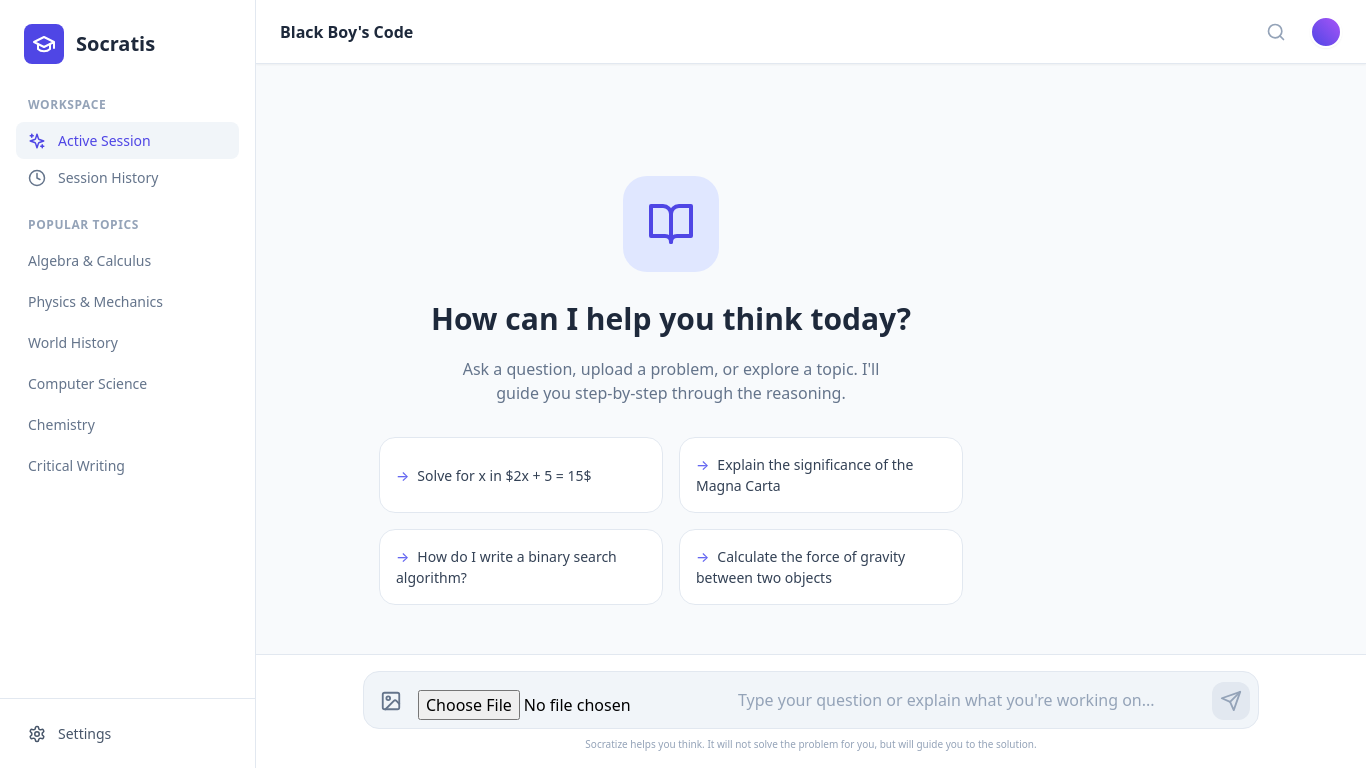
Test: App › Message Flow and State Changes › shows loading indicator while waiting for response
The width and height of the screenshot is (1366, 768).
Click the button "→ Solve for x in $2x + 5 = 15$".
click(521, 475)  # box [379,437,663,513]
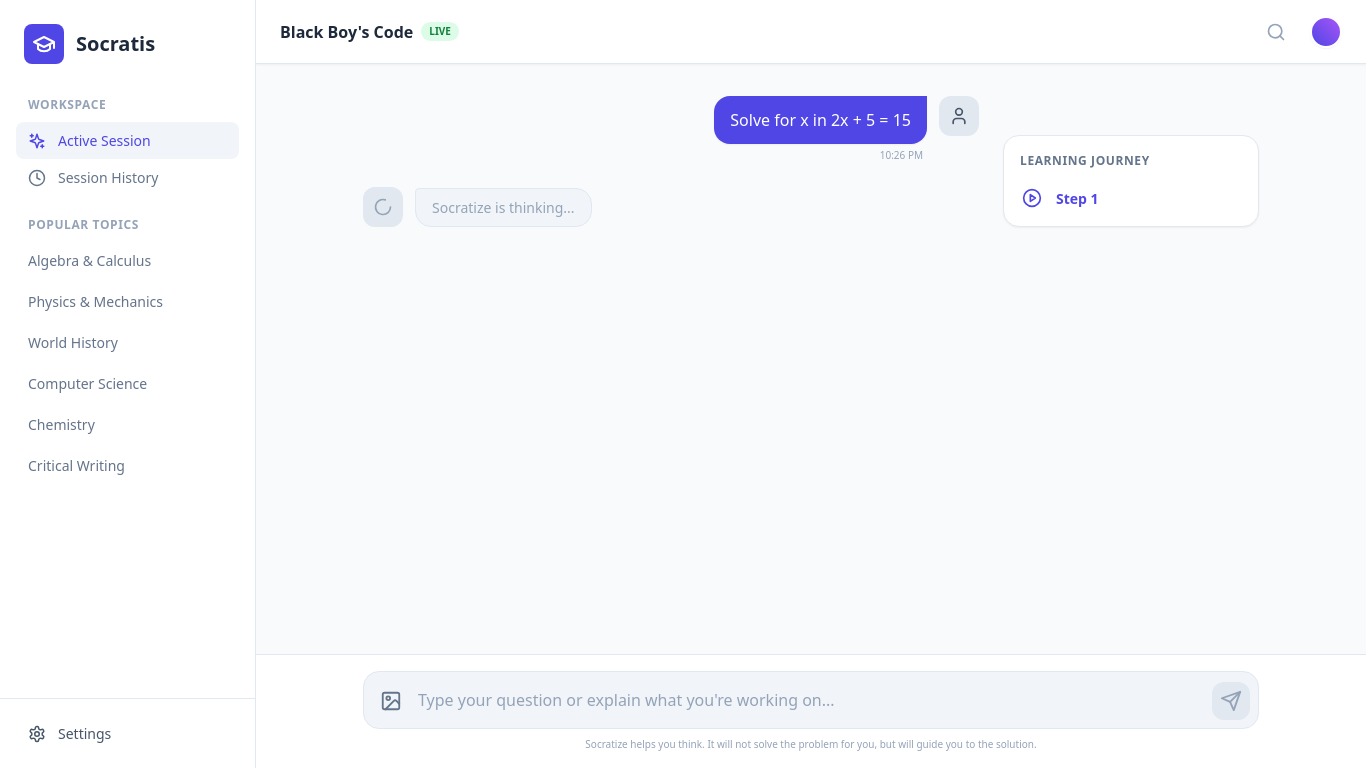
Result: the element showing "Socratize is thinking..." is shown at [363,187,592,227]
